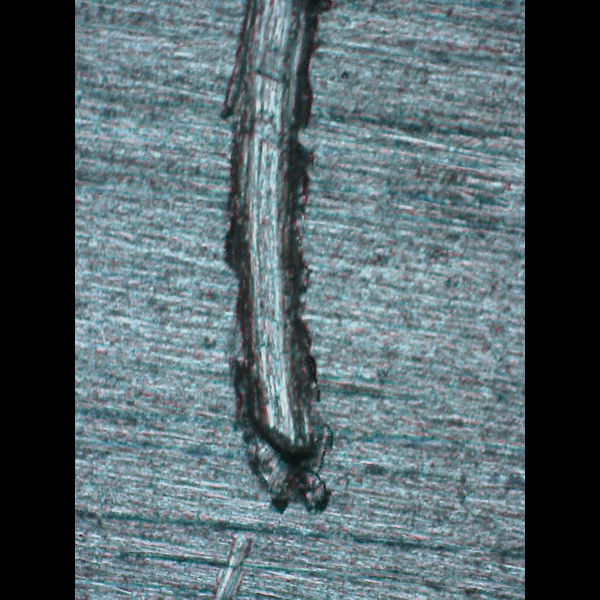d: (210, 0, 344, 530)
